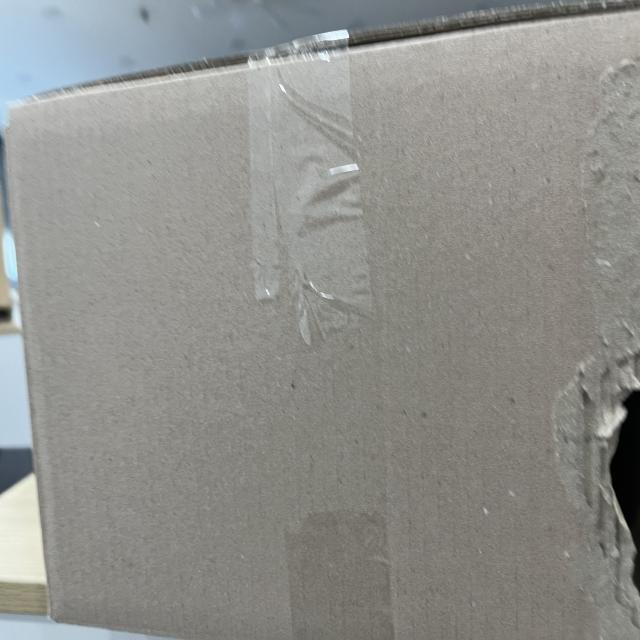hole: (571, 337, 639, 630)
